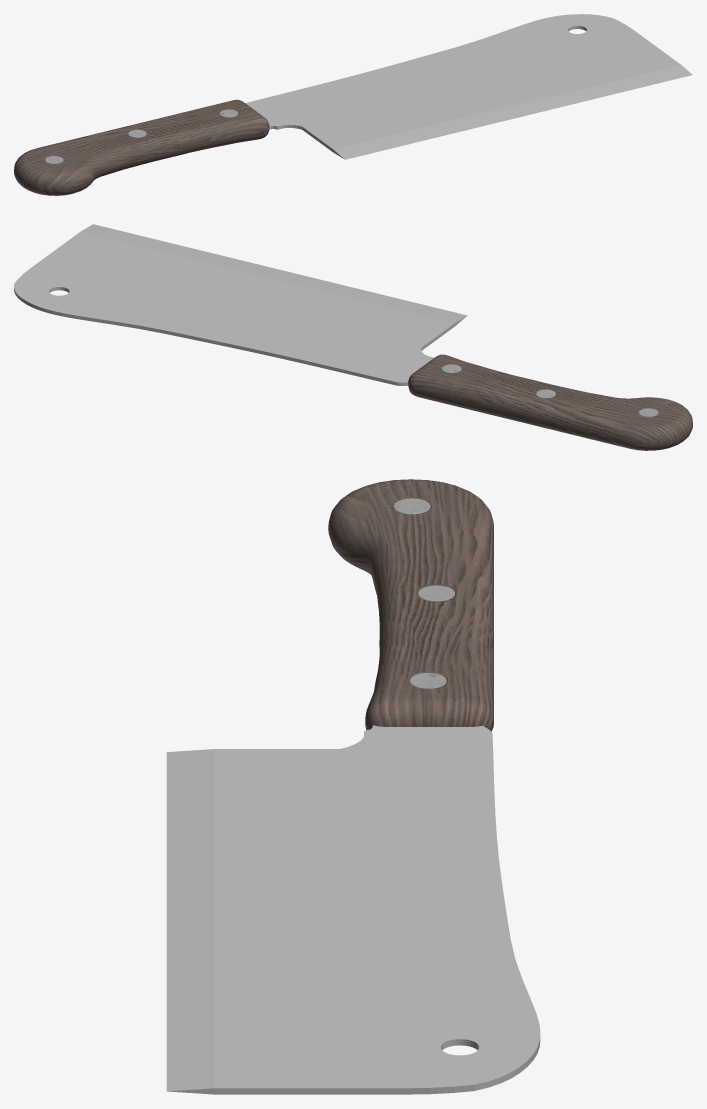
Rendered from kitchen_knife_2.fbx.
The picture shows the model from 3 angles, top to bottom: view 1: azimuth 30°, elevation 25°; view 2: azimuth 150°, elevation 25°; view 3: azimuth 270°, elevation 25°; orthographic projection. The views are drawn at different scales.
Parts seen in each view (by area): view 1: KitchenKnifeBlade, HiltWood, HiltMetal; view 2: KitchenKnifeBlade, HiltWood, HiltMetal; view 3: KitchenKnifeBlade, HiltWood, HiltMetal.
Part boxes in pixels (<box>): KitchenKnifeBlade: <box>246,14,692,159</box>; HiltWood: <box>14,99,269,195</box>; HiltMetal: <box>45,109,238,163</box>; KitchenKnifeBlade: <box>14,224,467,385</box>; HiltWood: <box>408,354,692,450</box>; HiltMetal: <box>442,364,658,416</box>; KitchenKnifeBlade: <box>166,725,540,1094</box>; HiltWood: <box>328,479,493,731</box>; HiltMetal: <box>393,498,454,688</box>.
Size of what is drawn, in the model's own units: 29.85 by 7.9 by 1.04.
